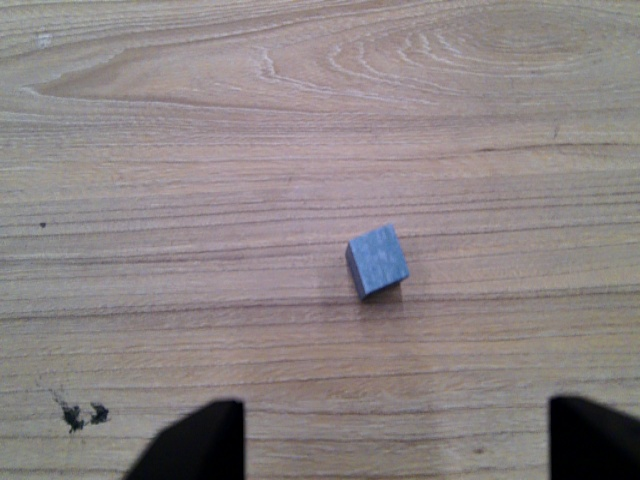stone: (344, 222, 413, 304)
